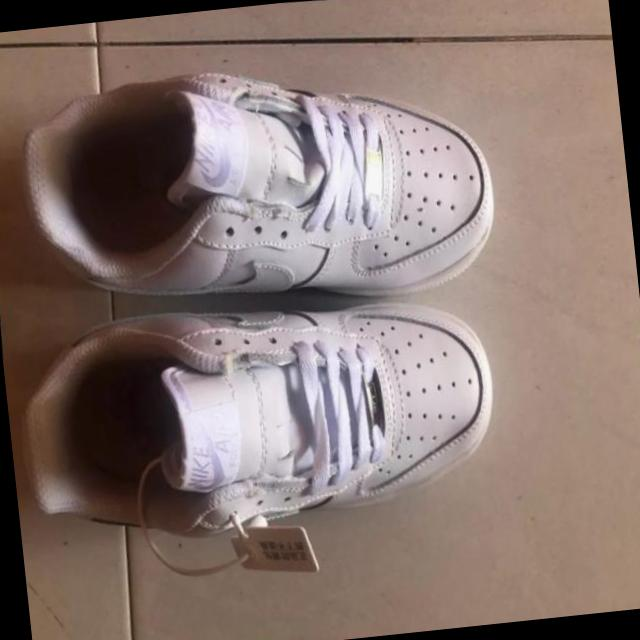nike_fake_airforce: (9, 27, 512, 340), (2, 270, 508, 560)
